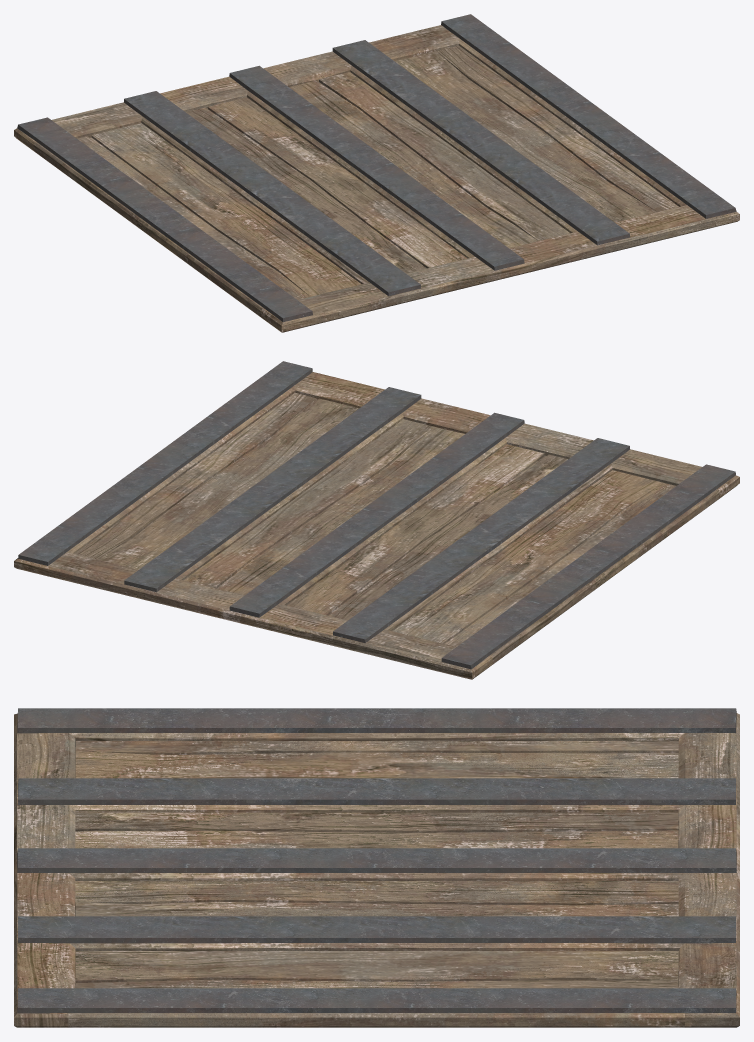
File: SM_Crate_Lid_A_02.fbx
3 renders of one model, top to bottom at view 1: azimuth 30°, elevation 25°; view 2: azimuth 150°, elevation 25°; view 3: azimuth 270°, elevation 25°, orthographic. The views are drawn at different scales.
Visible parts, largest first — view 1: SM_Crate_Lid_A_02_LOD0; view 2: SM_Crate_Lid_A_02_LOD0; view 3: SM_Crate_Lid_A_02_LOD0.
Boxes of the visible parts, <box> form: SM_Crate_Lid_A_02_LOD0: <box>14,14,739,332</box>; SM_Crate_Lid_A_02_LOD0: <box>14,361,739,679</box>; SM_Crate_Lid_A_02_LOD0: <box>14,708,739,1027</box>.
Size of the model in its own units: 88.46 by 89.4 by 2.57.
